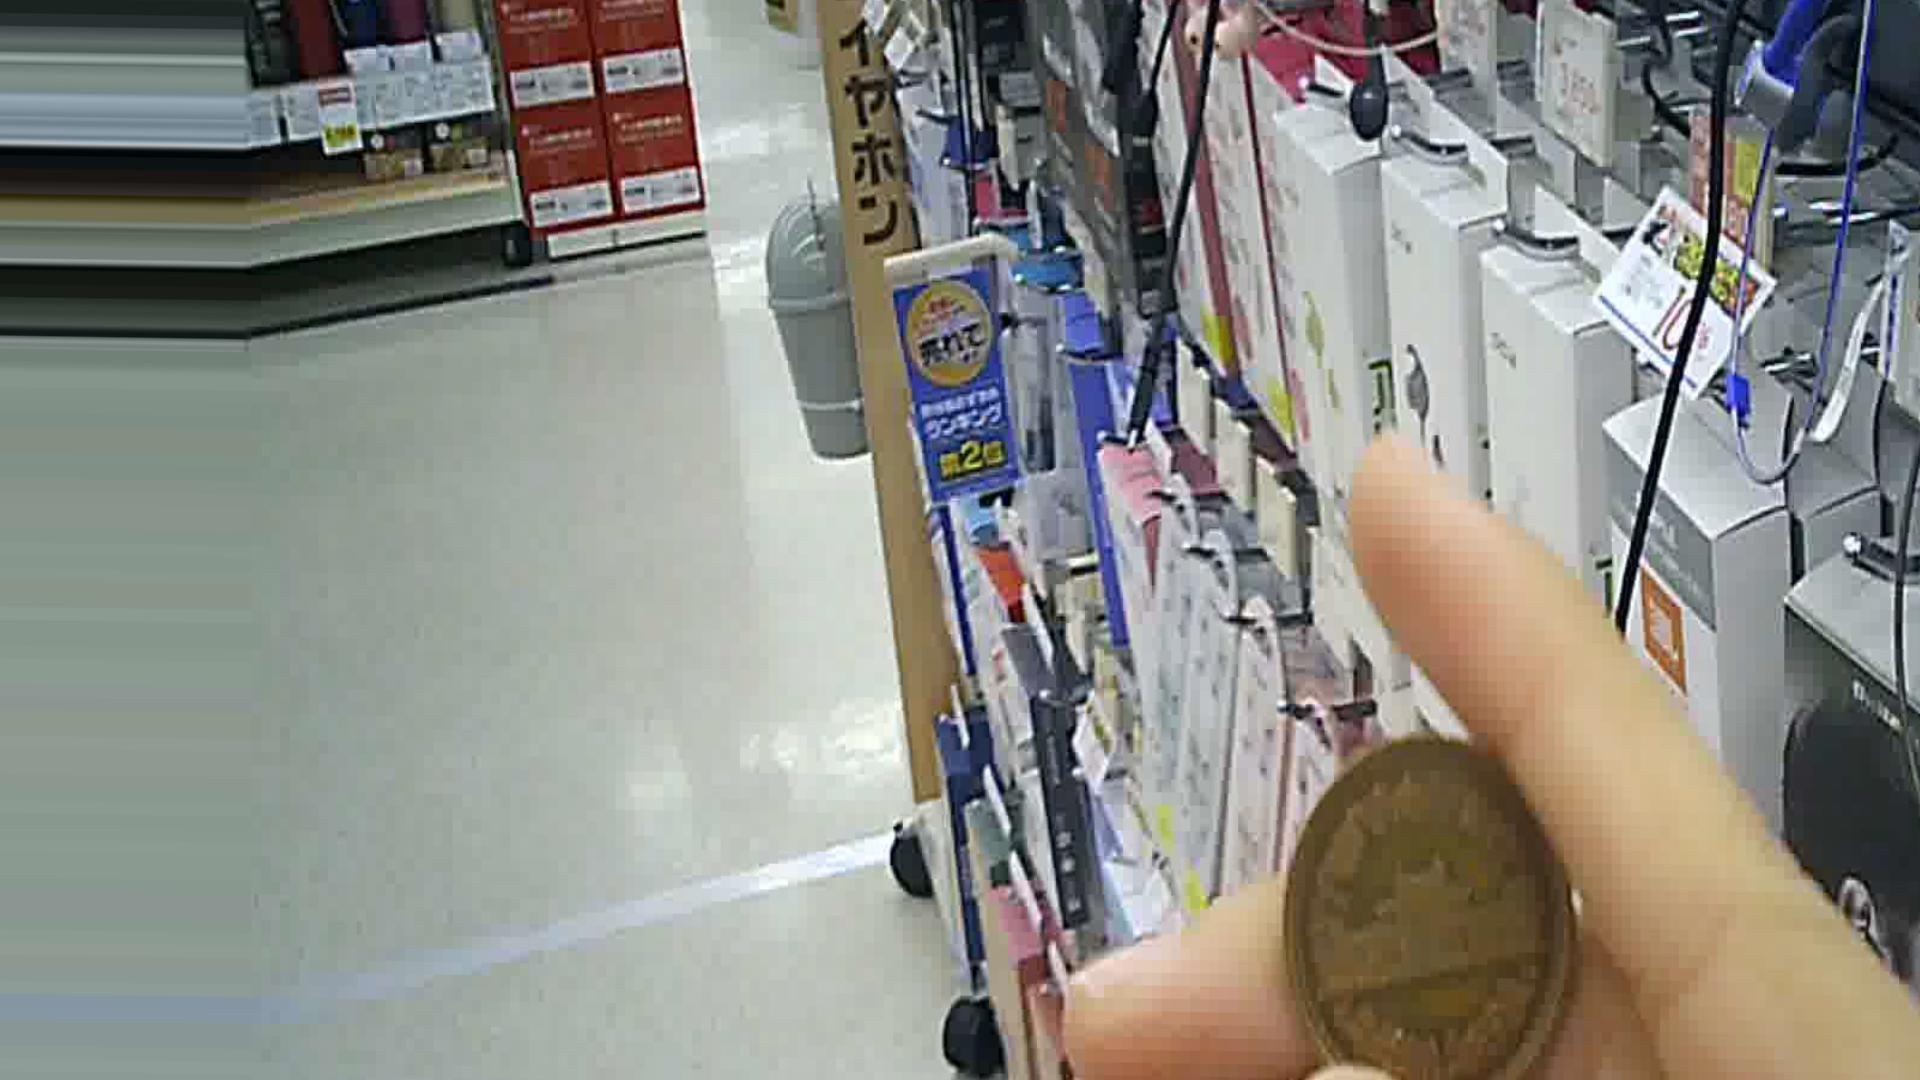10 Yen: (1278, 723, 1584, 1073)
